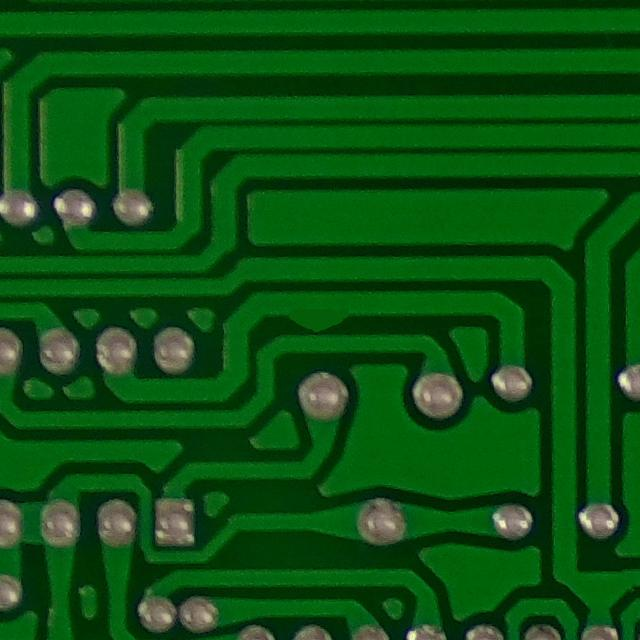spur: (278, 295, 363, 346)
